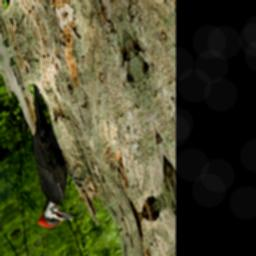Woodpecker: (0, 69, 95, 241)
